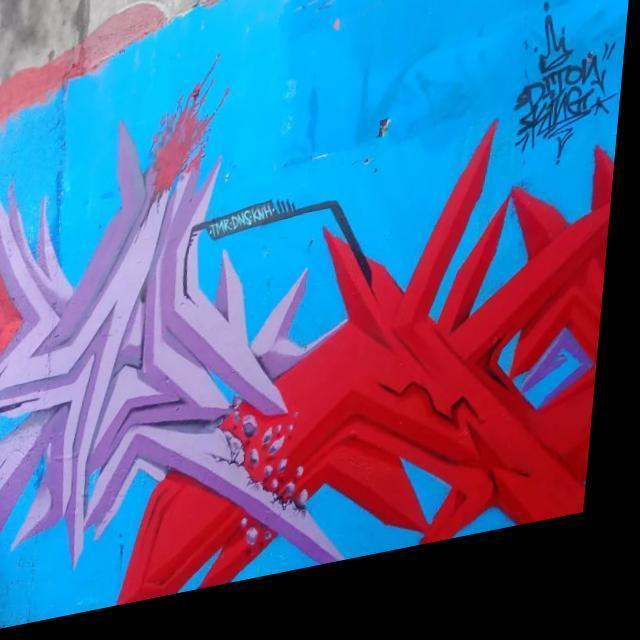nonspitting: (0, 83, 614, 604), (511, 20, 614, 166)
